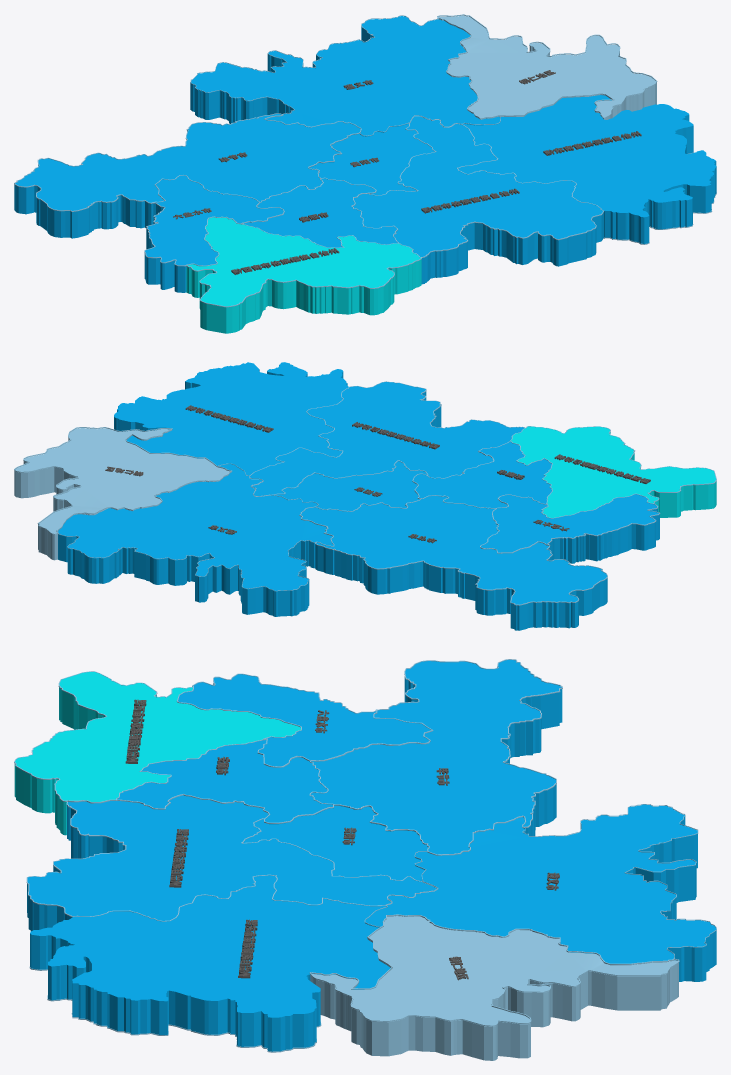
File: gzs.gltf
The picture shows the model from 3 angles, top to bottom: view 1: azimuth 30°, elevation 25°; view 2: azimuth 150°, elevation 25°; view 3: azimuth 270°, elevation 25°; orthographic projection. The views are drawn at different scales.
Visible parts, largest first — view 1: 封顶 2 (×7), 封顶 1 (×2), 挤压.1 (×7), 扫描 (×6); view 2: 封顶 2 (×7), 封顶 1 (×2), 挤压.1 (×6), 扫描 (×6); view 3: 封顶 2 (×7), 封顶 1 (×2), 挤压.1 (×6), 扫描 (×7).
Part boxes in pixels (bbox=[...]): 封顶 2 (×7): bbox=[145, 15, 716, 306]; 封顶 1 (×2): bbox=[15, 16, 500, 210]; 挤压.1 (×7): bbox=[14, 19, 716, 333]; 扫描 (×6): bbox=[14, 14, 657, 307]; 封顶 2 (×7): bbox=[15, 362, 715, 552]; 封顶 1 (×2): bbox=[58, 464, 606, 604]; 挤压.1 (×6): bbox=[14, 365, 716, 630]; 扫描 (×6): bbox=[14, 381, 716, 605]; 封顶 2 (×7): bbox=[15, 672, 677, 1026]; 封顶 1 (×2): bbox=[310, 660, 716, 963]; 挤压.1 (×6): bbox=[14, 677, 716, 1060]; 扫描 (×7): bbox=[14, 659, 716, 1026].
Bounding box in the file's own units: 1151 × 64.96 × 931.
